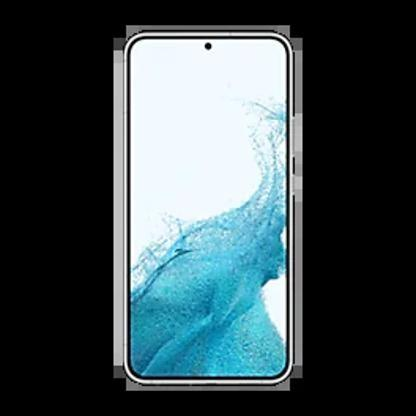not trash: (112, 22, 303, 399)
